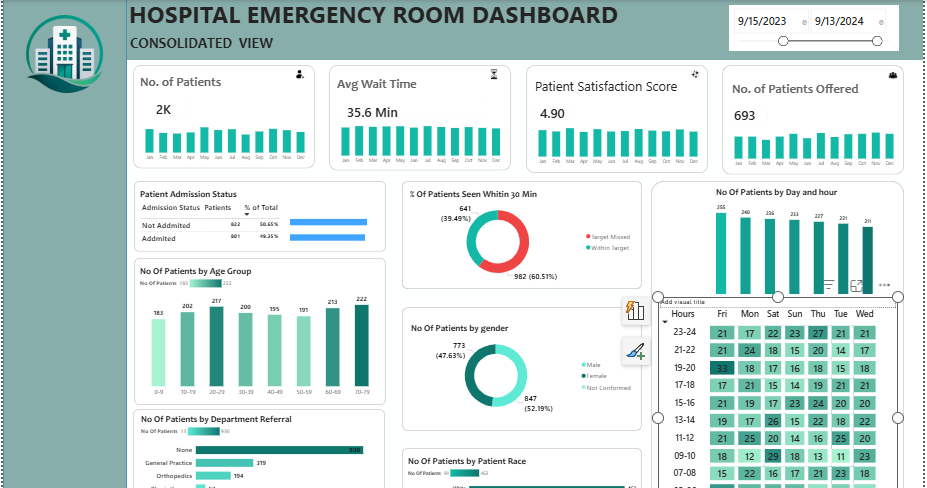

The dashboard page shown, as its layout file describes it:
{"tool":"powerbi","page":{"name":"CONSOLIDATED  VIEW","canvas":[2300,1400],"ordinal":1},"visuals":[{"type":"shape","box":[0,0,310,1400],"z":0},{"type":"shape","box":[310,0,1990,160],"z":1000},{"type":"textbox","box":[310,0,1243.8,87.5],"z":2000},{"type":"textbox","box":[313.3,90,396.7,60],"z":3000},{"type":"shape","box":[325.7,172.9,455,259],"z":4000},{"type":"cardVisual","fields":{"Data":["Hospital ER_Data - Hospital ER_Data.No Of Patients"]},"box":[353.3,245,131.7,71.7],"z":5000},{"type":"slicer","fields":{"Values":["Date Table.Date"]},"box":[1815,22.5,422.5,112.5],"z":6000},{"type":"textbox","box":[338.3,190,220,55],"z":7000},{"type":"columnChart","fields":{"Y":["Hospital ER_Data - Hospital ER_Data.No Of Patients"],"Category":["Date Table.Month Name"]},"box":[337.7,298.3,435.7,124],"z":8000},{"type":"shape","box":[816,173,455,264],"z":9000},{"type":"cardVisual","fields":{"Data":["Hospital ER_Data - Hospital ER_Data.Avg Wait Time"]},"box":[830,250,398,72],"z":10000},{"type":"textbox","box":[830,195.7,220,54.3],"z":11000},{"type":"columnChart","fields":{"Category":["Date Table.Month Name"],"Y":["Avg(Hospital ER_Data - Hospital ER_Data.Patient Waittime)"]},"box":[827.7,305.4,434.3,124],"z":12000},{"type":"shape","box":[1307,173,455,270],"z":13000},{"type":"cardVisual","fields":{"Data":["Hospital ER_Data - Hospital ER_Data.Satisfaction Score"]},"box":[1313,255,131.7,71.7],"z":14000},{"type":"textbox","box":[1324,198,386,56],"z":15000},{"type":"shape","box":[326.2,462.5,630,177],"z":16000},{"type":"columnChart","fields":{"Category":["Date Table.Month Name"],"Y":["Hospital ER_Data - Hospital ER_Data.Satisfaction Score"]},"box":[1319.1,308.3,435.7,124],"z":17000},{"type":"shape","box":[1797,173,455,274],"z":18000},{"type":"cardVisual","fields":{"Data":["Hospital ER_Data - Hospital ER_Data.No of Patient Reffered"]},"box":[1797.6,260.7,131.7,71.7],"z":19000},{"type":"textbox","box":[1817.5,207.5,386.2,73.8],"z":20000},{"type":"columnChart","fields":{"Category":["Date Table.Month Name"],"Y":["Hospital ER_Data - Hospital ER_Data.No of Patient Reffered"]},"box":[1809.1,312.6,435.7,124],"z":21000},{"type":"pivotTable","title":"Patient Admission Status","fields":{"Rows":["Hospital ER_Data - Hospital ER_Data.Admission Status"],"Values":["Hospital ER_Data - Hospital ER_Data.No Of Patients1","Hospital ER_Data - Hospital ER_Data.No Of Patients"]},"box":[338.3,480,593.3,145],"z":22000},{"type":"barChart","fields":{"Category":["Hospital ER_Data - Hospital ER_Data.Admission Status"],"Y":["Hospital ER_Data - Hospital ER_Data.No Of Patients"]},"box":[711.4,525.7,244.3,114.3],"z":23000},{"type":"shape","box":[327.5,655,630,367.5],"z":24000},{"type":"clusteredColumnChart","fields":{"Category":["Hospital ER_Data - Hospital ER_Data.Age Group"],"Y":["Hospital ER_Data - Hospital ER_Data.No Of Patients"]},"box":[337.5,672.5,612.5,337.5],"z":25000},{"type":"shape","box":[326,1033,630,367],"z":26000},{"type":"clusteredBarChart","fields":{"Category":["Hospital ER_Data - Hospital ER_Data.Department Referral"],"Y":["Hospital ER_Data - Hospital ER_Data.No Of Patients"]},"box":[340,1043.3,600,345],"z":27000},{"type":"shape","box":[998.3,463.3,600,270],"z":28000},{"type":"donutChart","title":"% Of Patients Seen Whitin 30 Min","fields":{"Category":["Hospital ER_Data - Hospital ER_Data.Waittime Status"],"Y":["Hospital ER_Data - Hospital ER_Data.No Of Patients"]},"box":[1013.3,480,570,240],"z":29000},{"type":"shape","box":[998,778,600,310],"z":30000},{"type":"donutChart","title":"No Of Patients by gender","fields":{"Y":["Hospital ER_Data - Hospital ER_Data.No Of Patients"],"Category":["Hospital ER_Data - Hospital ER_Data.Patient Gender"]},"box":[1014,816,570,240],"z":31000},{"type":"shape","box":[998,1130,600,270],"z":32000},{"type":"clusteredBarChart","fields":{"Y":["Hospital ER_Data - Hospital ER_Data.No Of Patients"],"Category":["Hospital ER_Data - Hospital ER_Data.Patient Race"]},"box":[1008,1148,580,236],"z":33000},{"type":"shape","box":[1620,462.5,632.5,937.5],"z":34000},{"type":"pivotTable","fields":{"Rows":["Hospital ER_Data - Hospital ER_Data.Waittime Interval"],"Columns":["Date Table.Day Name"],"Values":["Hospital ER_Data - Hospital ER_Data.No Of Patients"]},"box":[1637.5,752.5,600,605],"z":35000},{"type":"columnChart","title":"No Of Patients by Day and hour","fields":{"Category":["Date Table.Day Name"],"Y":["Hospital ER_Data - Hospital ER_Data.No Of Patients"]},"box":[1778,476,404,276],"z":36000},{"type":"image","box":[22.5,0,262.5,290],"z":37000},{"type":"image","box":[722,182,40,26],"z":38000},{"type":"image","box":[1208,183,40,26],"z":39000},{"type":"image","box":[1710,183,40,26],"z":40000},{"type":"image","box":[2204,185,40,26],"z":41000}]}

Visuals, with their boxes on the page's 2300x1400 design canvas (x1, y1, x2, y2). These are canvas units, not pixel positions in the 927x488 screenshot, which may show the page scaled, cropped or inside an application window:
shape: (x1=0, y1=0, x2=310, y2=1400)
shape: (x1=310, y1=0, x2=2300, y2=160)
textbox: (x1=310, y1=0, x2=1554, y2=88)
textbox: (x1=313, y1=90, x2=710, y2=150)
shape: (x1=326, y1=173, x2=781, y2=432)
cardVisual - Hospital ER_Data - Hospital ER_Data.No Of Patients: (x1=353, y1=245, x2=485, y2=317)
slicer - Date Table.Date: (x1=1815, y1=22, x2=2238, y2=135)
textbox: (x1=338, y1=190, x2=558, y2=245)
columnChart - Hospital ER_Data - Hospital ER_Data.No Of Patients x Date Table.Month Name: (x1=338, y1=298, x2=773, y2=422)
shape: (x1=816, y1=173, x2=1271, y2=437)
cardVisual - Hospital ER_Data - Hospital ER_Data.Avg Wait Time: (x1=830, y1=250, x2=1228, y2=322)
textbox: (x1=830, y1=196, x2=1050, y2=250)
columnChart - Date Table.Month Name x Avg(Hospital ER_Data - Hospital ER_Data.Patient Waittime): (x1=828, y1=305, x2=1262, y2=429)
shape: (x1=1307, y1=173, x2=1762, y2=443)
cardVisual - Hospital ER_Data - Hospital ER_Data.Satisfaction Score: (x1=1313, y1=255, x2=1445, y2=327)
textbox: (x1=1324, y1=198, x2=1710, y2=254)
shape: (x1=326, y1=462, x2=956, y2=640)
columnChart - Date Table.Month Name x Hospital ER_Data - Hospital ER_Data.Satisfaction Score: (x1=1319, y1=308, x2=1755, y2=432)
shape: (x1=1797, y1=173, x2=2252, y2=447)
cardVisual - Hospital ER_Data - Hospital ER_Data.No of Patient Reffered: (x1=1798, y1=261, x2=1929, y2=332)
textbox: (x1=1818, y1=208, x2=2204, y2=281)
columnChart - Date Table.Month Name x Hospital ER_Data - Hospital ER_Data.No of Patient Reffered: (x1=1809, y1=313, x2=2245, y2=437)
"Patient Admission Status" pivotTable: (x1=338, y1=480, x2=932, y2=625)
barChart - Hospital ER_Data - Hospital ER_Data.Admission Status x Hospital ER_Data - Hospital ER_Data.No Of Patients: (x1=711, y1=526, x2=956, y2=640)
shape: (x1=328, y1=655, x2=958, y2=1022)
clusteredColumnChart - Hospital ER_Data - Hospital ER_Data.Age Group x Hospital ER_Data - Hospital ER_Data.No Of Patients: (x1=338, y1=672, x2=950, y2=1010)
shape: (x1=326, y1=1033, x2=956, y2=1400)
clusteredBarChart - Hospital ER_Data - Hospital ER_Data.Department Referral x Hospital ER_Data - Hospital ER_Data.No Of Patients: (x1=340, y1=1043, x2=940, y2=1388)
shape: (x1=998, y1=463, x2=1598, y2=733)
"% Of Patients Seen Whitin 30 Min" donutChart: (x1=1013, y1=480, x2=1583, y2=720)
shape: (x1=998, y1=778, x2=1598, y2=1088)
"No Of Patients by gender" donutChart: (x1=1014, y1=816, x2=1584, y2=1056)
shape: (x1=998, y1=1130, x2=1598, y2=1400)
clusteredBarChart - Hospital ER_Data - Hospital ER_Data.No Of Patients x Hospital ER_Data - Hospital ER_Data.Patient Race: (x1=1008, y1=1148, x2=1588, y2=1384)
shape: (x1=1620, y1=462, x2=2252, y2=1400)
pivotTable - Hospital ER_Data - Hospital ER_Data.Waittime Interval x Date Table.Day Name: (x1=1638, y1=752, x2=2238, y2=1358)
"No Of Patients by Day and hour" columnChart: (x1=1778, y1=476, x2=2182, y2=752)
image: (x1=22, y1=0, x2=285, y2=290)
image: (x1=722, y1=182, x2=762, y2=208)
image: (x1=1208, y1=183, x2=1248, y2=209)
image: (x1=1710, y1=183, x2=1750, y2=209)
image: (x1=2204, y1=185, x2=2244, y2=211)
